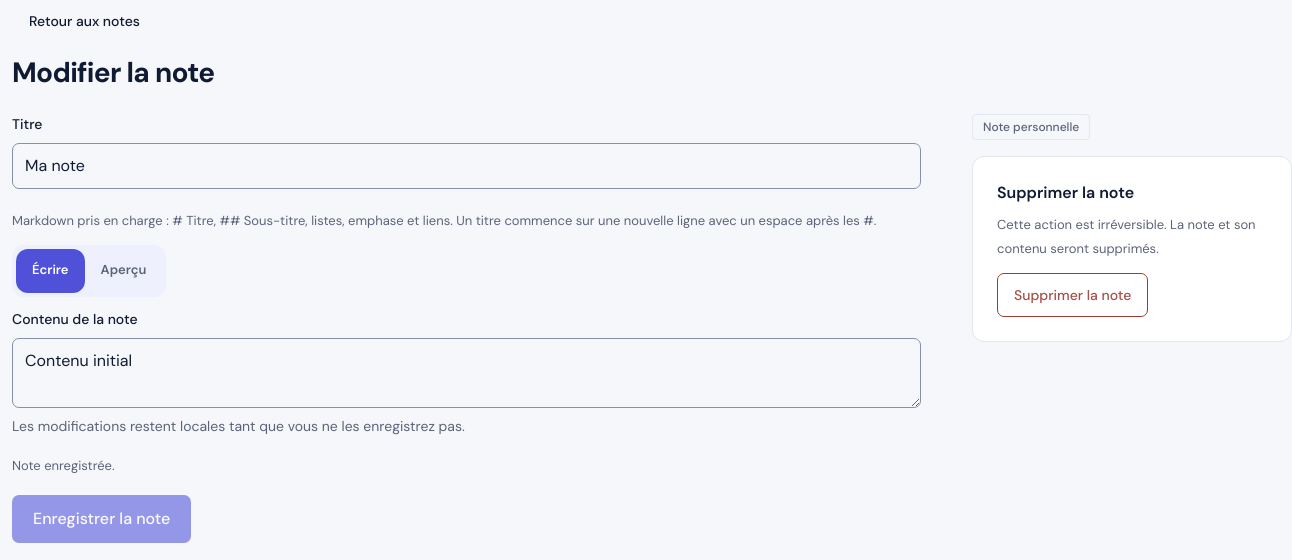
it: NotePage › enregistre explicitement le titre et le Markdown
Step 1. Replace the text in the field labelled "Titre" with "Titre enregistré" → (466, 166), box [12,143,921,189]
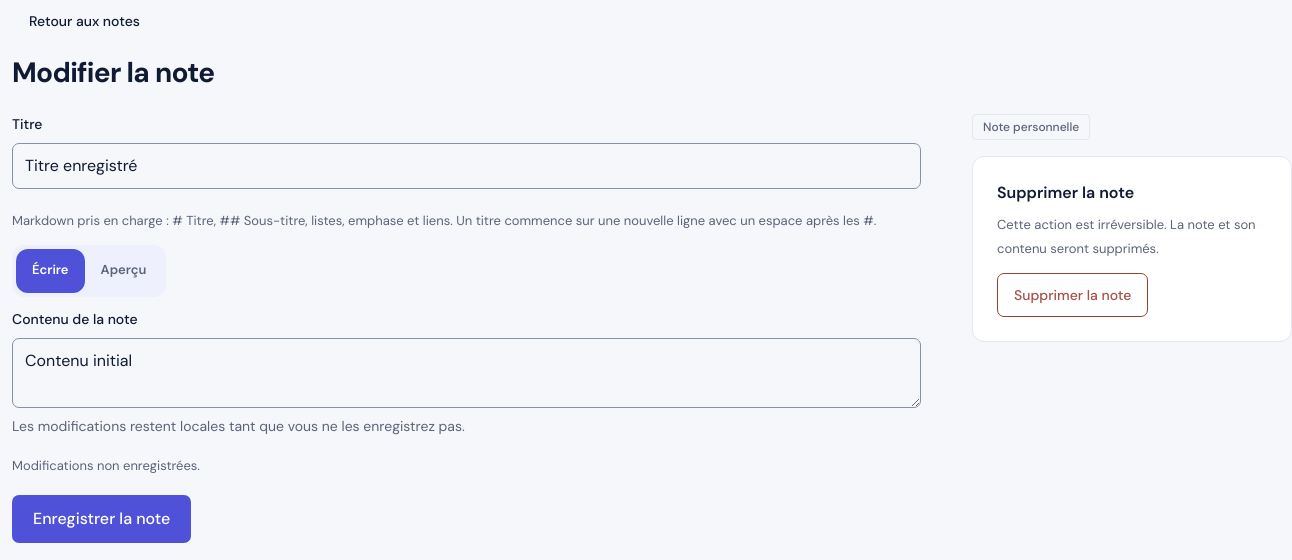
Step 2. Replace the text in the text box labelled "Contenu de la note" with "# Nouveau contenu" → (466, 373), box [12,338,921,408]
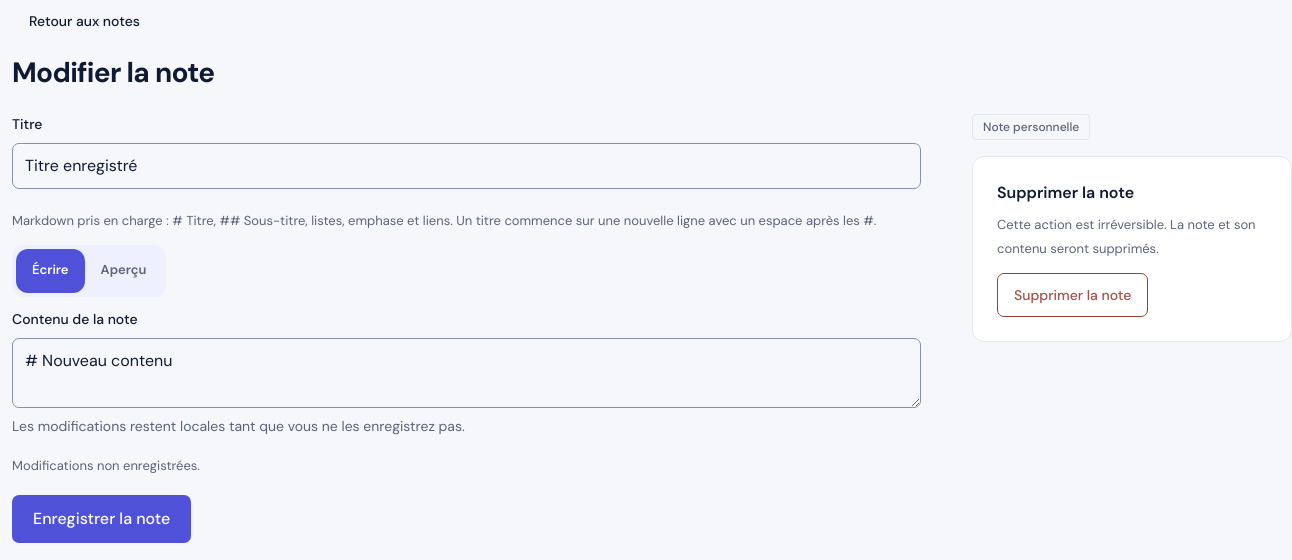
Result: the text "Modifications non enregistrées." is shown at [12,457,200,474]
Step 3. Click the button "Enregistrer la note" → (102, 519), box [12,495,191,543]
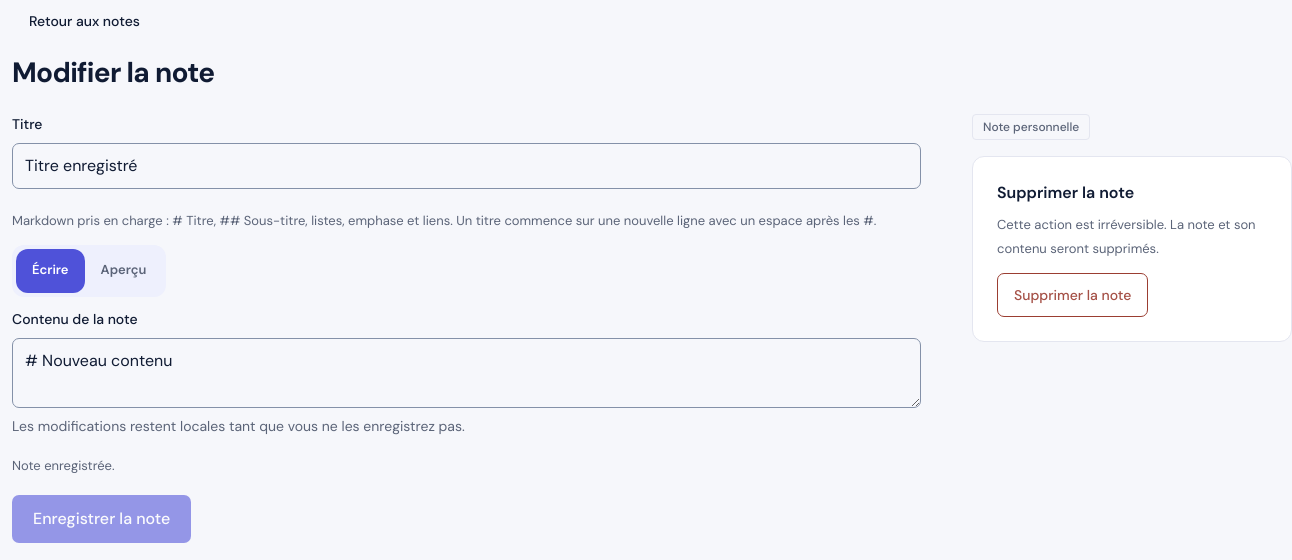
Result: the text "Note enregistrée." is shown at [12,457,115,474]
